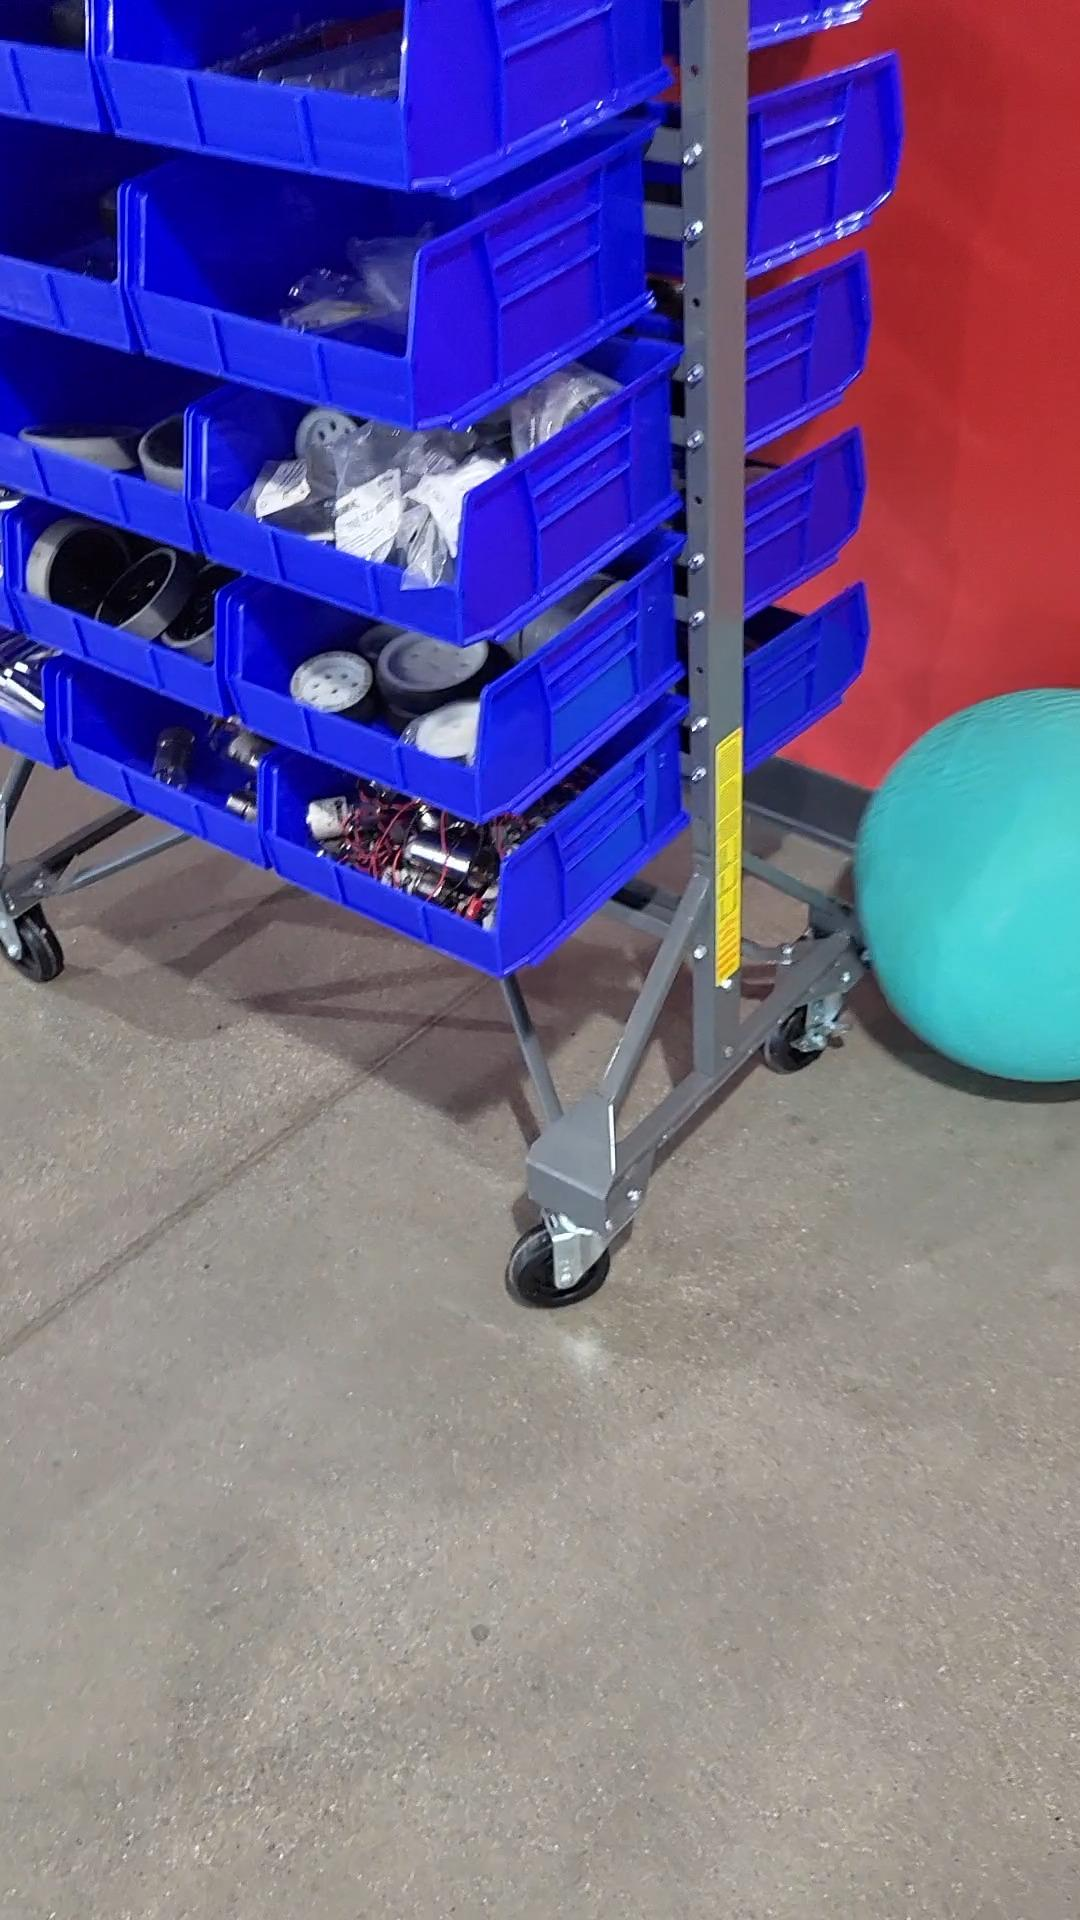algae: (864, 686, 1080, 1076)
